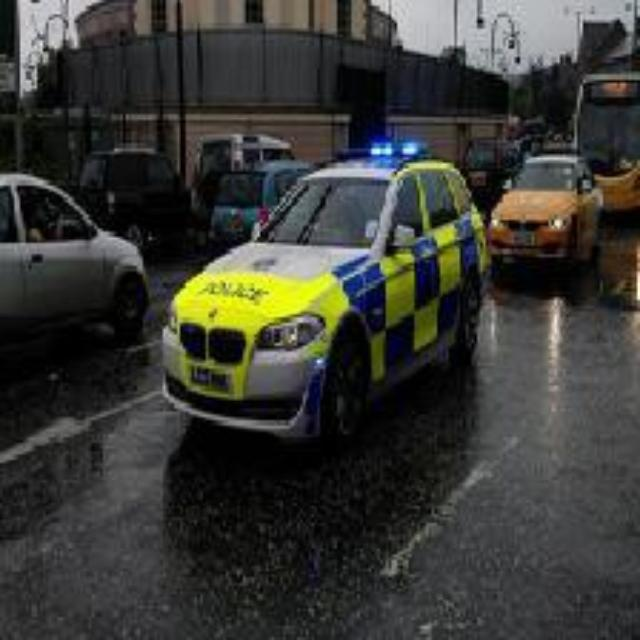emergency: (172, 136, 486, 436)
